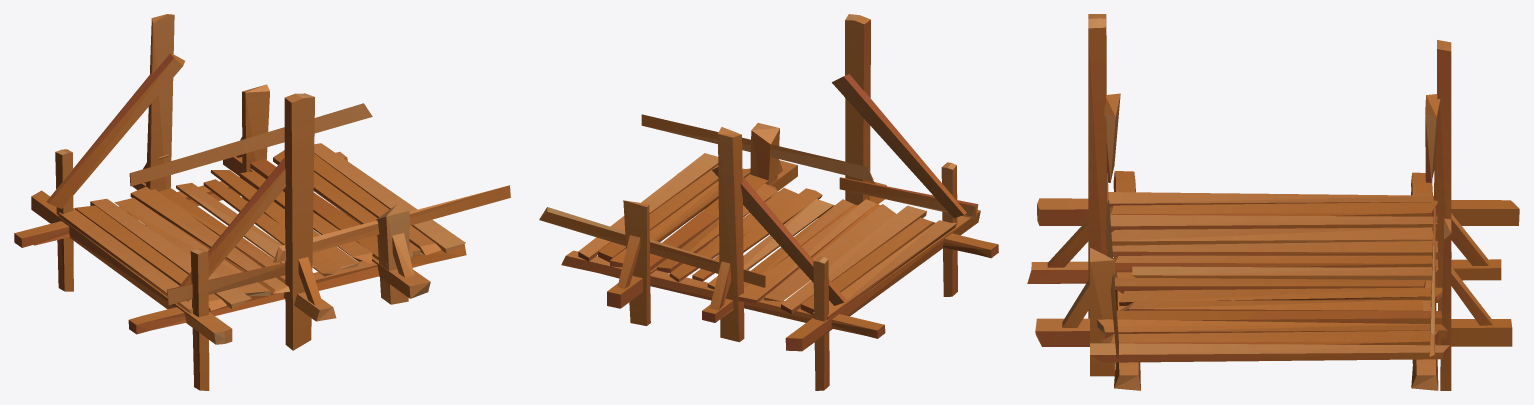
The model's file is bridge005.gltf.
3 views of the same model, side by side, from view 1: azimuth 30°, elevation 25°; view 2: azimuth 150°, elevation 25°; view 3: azimuth 270°, elevation 25° (orthographic). The views are drawn at different scales.
Parts seen in each view (by area): view 1: node_Manmade06_2_-514036; view 2: node_Manmade06_2_-514036; view 3: node_Manmade06_2_-514036.
Boxes of the visible parts, x1,y1,x2,y2 form: node_Manmade06_2_-514036: (14, 14, 510, 390); node_Manmade06_2_-514036: (539, 14, 998, 390); node_Manmade06_2_-514036: (1027, 14, 1519, 390).
Size of what is drawn, in the model's own units: 2.91 by 2 by 2.61.
1 material, 1 textured.
